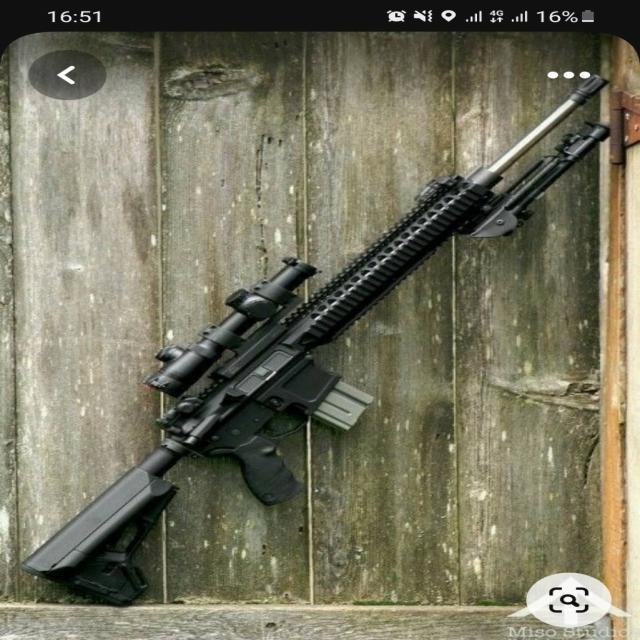m16: (46, 198, 420, 606)
